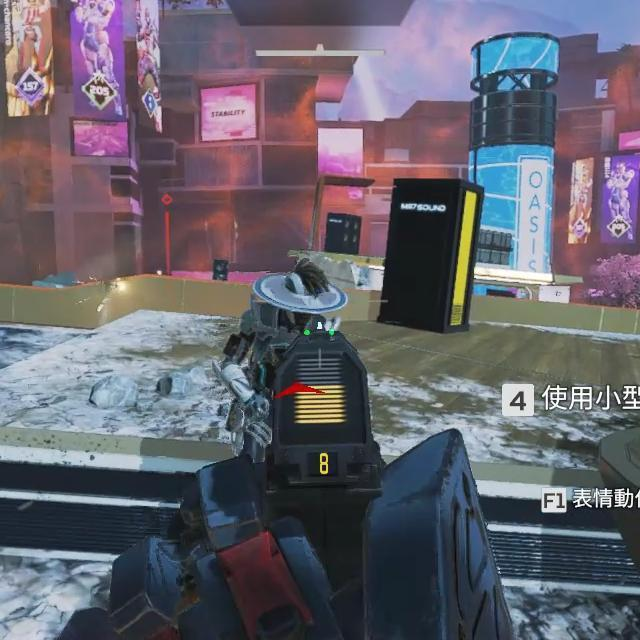avatar: (236, 263, 347, 330)
